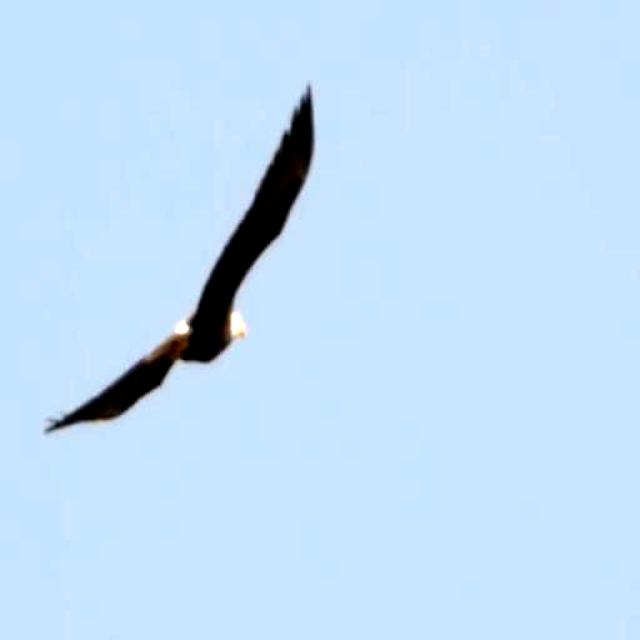airplane: (40, 69, 325, 455)
